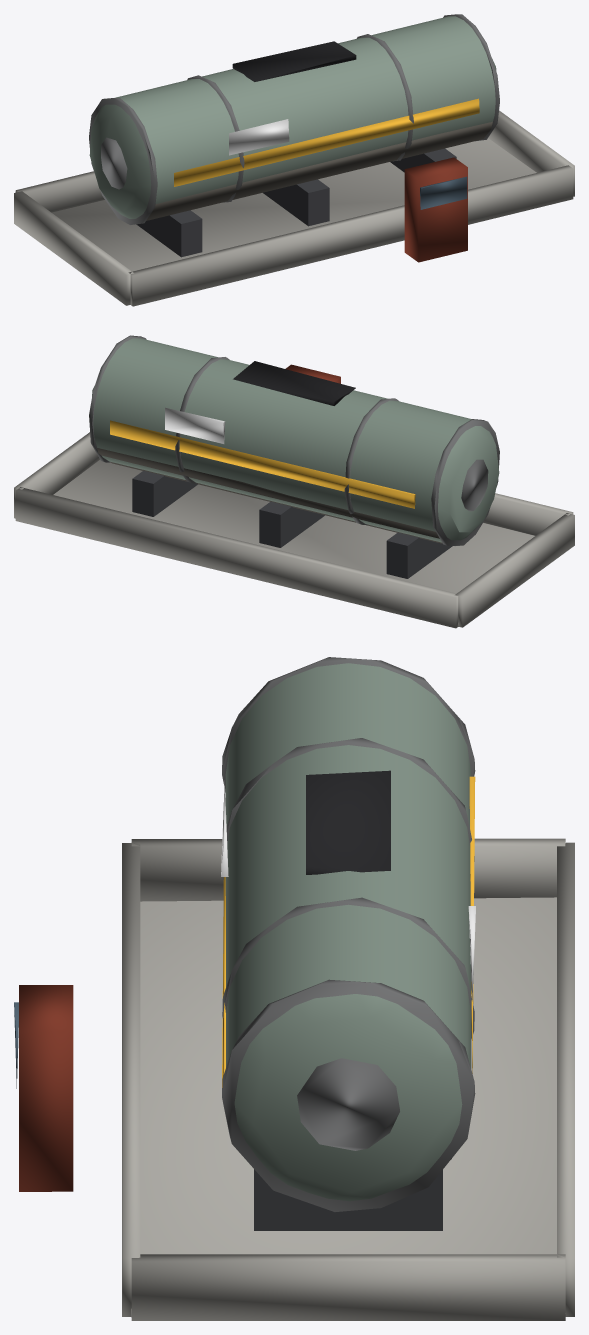
File: fuel_tank_LOD1.glb
3 views of the same model, one above another, from view 1: azimuth 30°, elevation 25°; view 2: azimuth 150°, elevation 25°; view 3: azimuth 270°, elevation 25° (orthographic). The views are drawn at different scales.
Visible parts, largest first — view 1: Body_LOD1; view 2: Body_LOD1; view 3: Body_LOD1.
Boxes of the visible parts, left/top/right/bottom form: Body_LOD1: left=14, top=14, right=574, bottom=306; Body_LOD1: left=14, top=335, right=574, bottom=628; Body_LOD1: left=14, top=657, right=574, bottom=1320.
Size of the model in its own units: 10.59 by 3.4 by 5.94.
